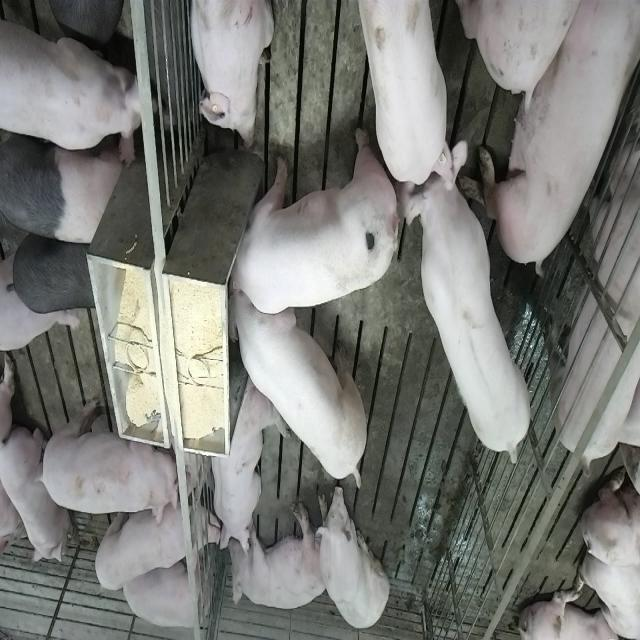Feeding: (220, 126, 394, 314), (230, 285, 372, 496)
Lateral_lying: (228, 500, 330, 610)
Sitting: (316, 482, 390, 633)
Standing: (538, 21, 640, 471), (404, 142, 535, 474), (2, 0, 142, 161), (360, 0, 468, 187), (36, 390, 179, 520), (2, 124, 125, 248), (5, 229, 104, 315)
Sternal_lying: (208, 374, 282, 554), (186, 0, 274, 150), (2, 420, 67, 566)
